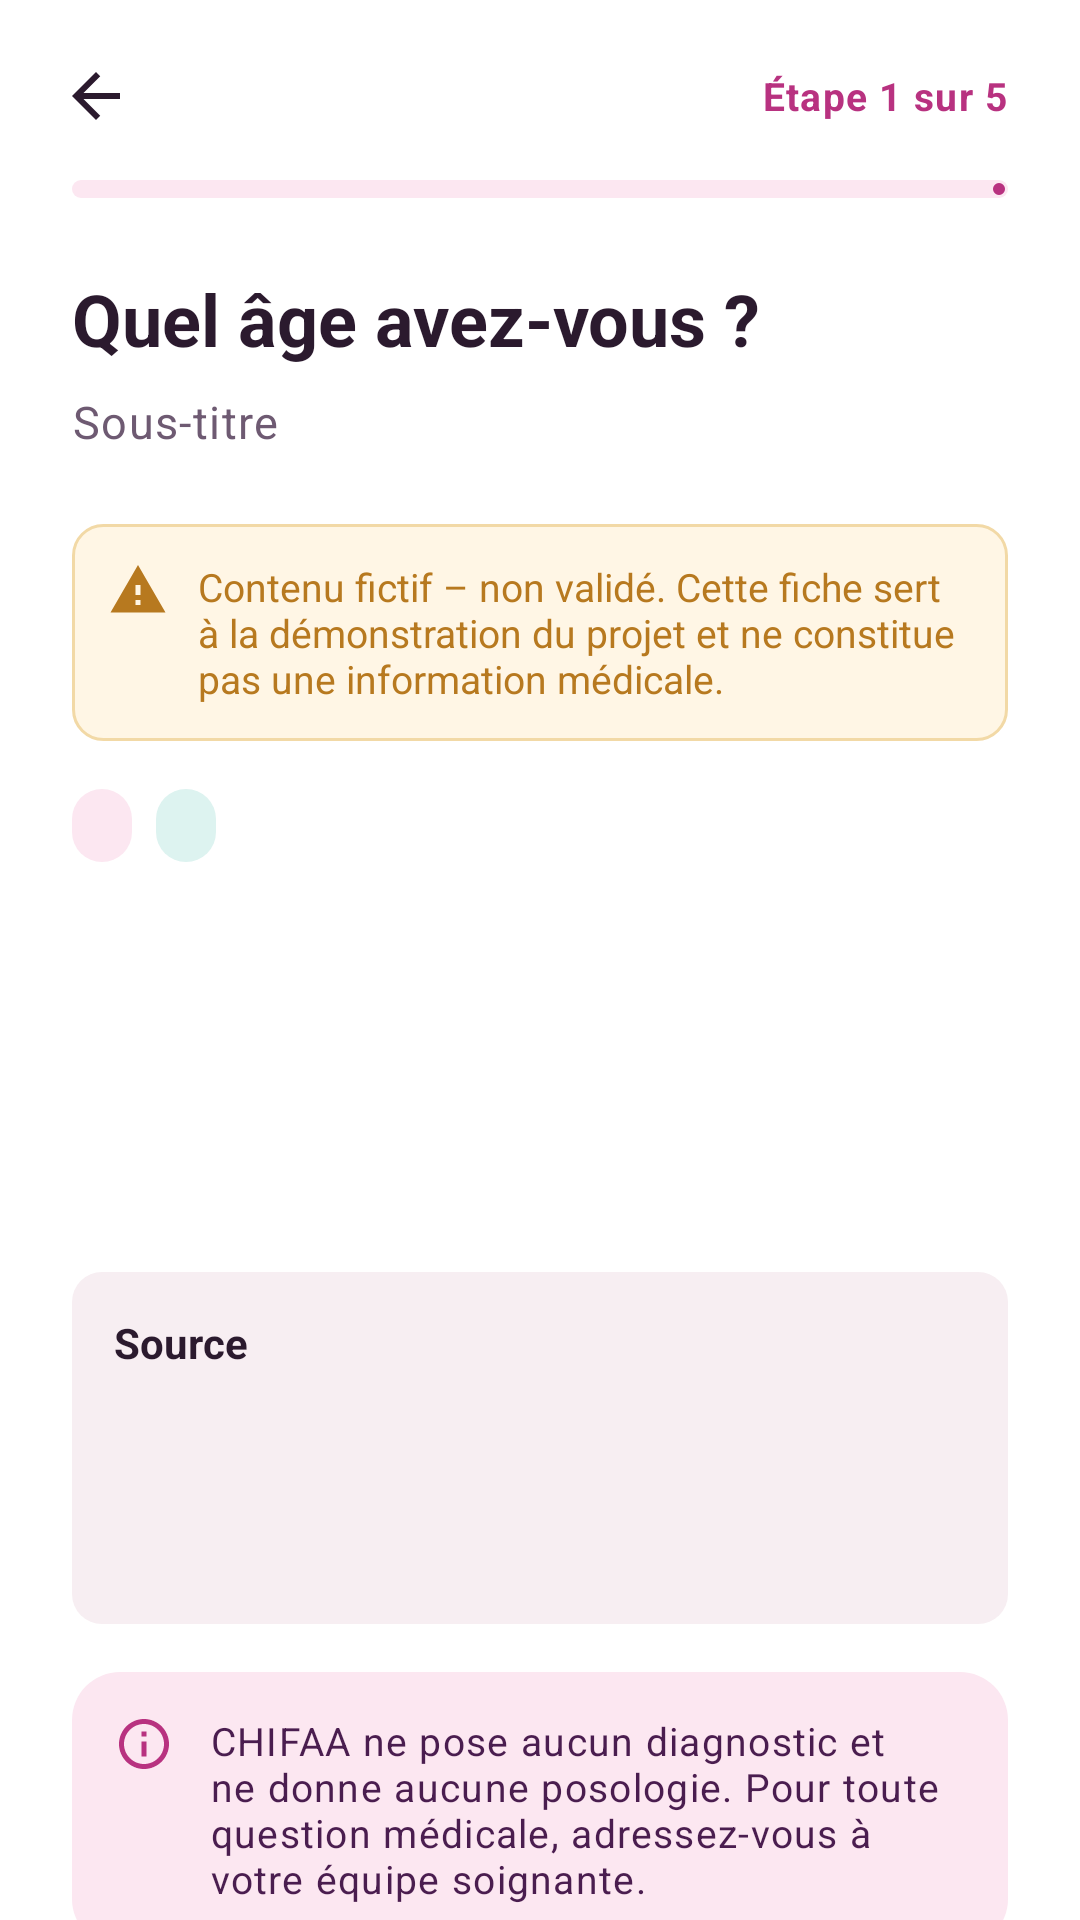

Icon bounding boxes for this 1080px×1920px phone screenshot, format region(x1, y1, x2, y2):
info: region(119, 1719, 169, 1769)
Retour: region(72, 72, 120, 120)
warning: region(110, 565, 166, 613)
